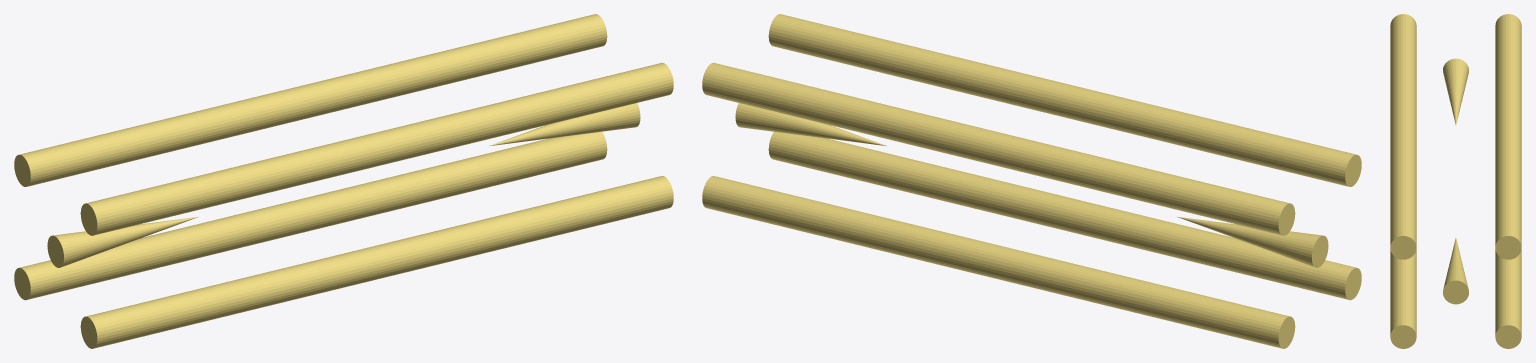
Rendered from trap.gltf.
3 views of the same model, side by side, from view 1: azimuth 30°, elevation 25°; view 2: azimuth 150°, elevation 25°; view 3: azimuth 270°, elevation 25° (orthographic). The views are drawn at different scales.
Visible parts, largest first — view 1: Cylinder.004; view 2: Cylinder.004; view 3: Cylinder.004.
Part boxes in pixels (x1=…): Cylinder.004: x1=14, y1=14, x2=673, y2=348; Cylinder.004: x1=702, y1=14, x2=1361, y2=348; Cylinder.004: x1=1390, y1=14, x2=1521, y2=348.
Size of the model in its own units: 4 by 0.95 by 1.
